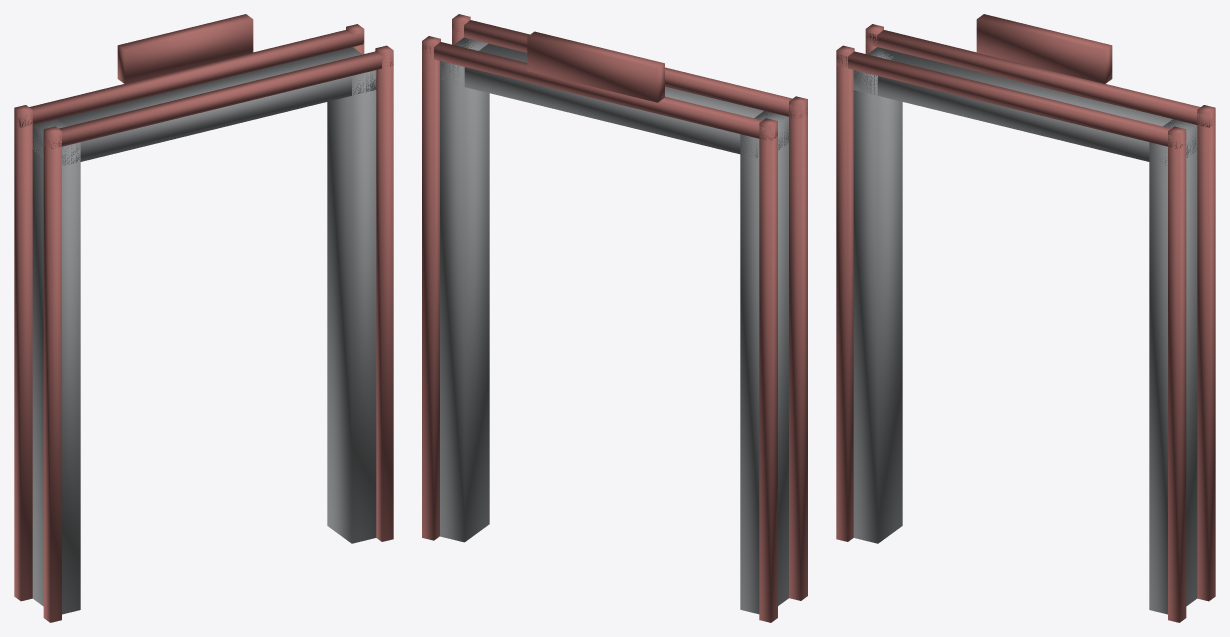
Rendered from doorway_emergency_exit_w152_h240_d24.glb.
The picture shows the model from 3 angles, left to right: view 1: azimuth 30°, elevation 25°; view 2: azimuth 150°, elevation 25°; view 3: azimuth 330°, elevation 25°; orthographic projection.
Parts seen in each view (by area): view 1: world; view 2: world; view 3: world.
Boxes of the visible parts, left/top/right/bottom form: world: left=14, top=14, right=393, bottom=622; world: left=422, top=14, right=807, bottom=622; world: left=836, top=14, right=1215, bottom=622.
Bounding box in the file's own units: 1.92 × 2.8 × 0.3908.
